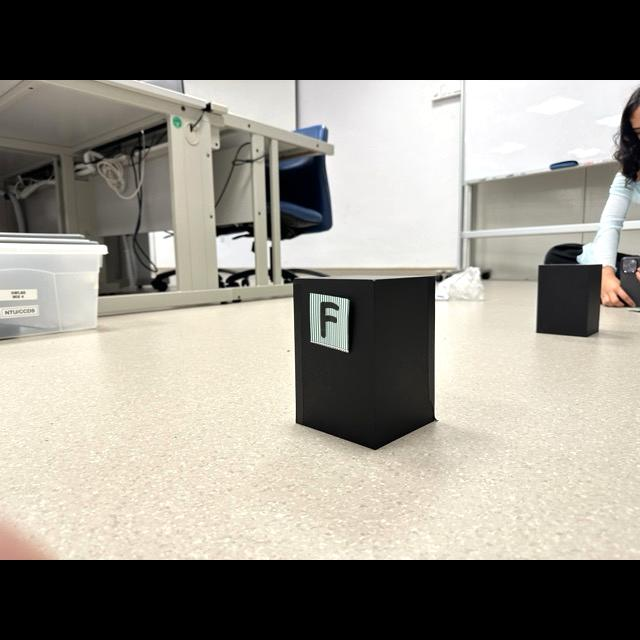F: (320, 301, 339, 337)
